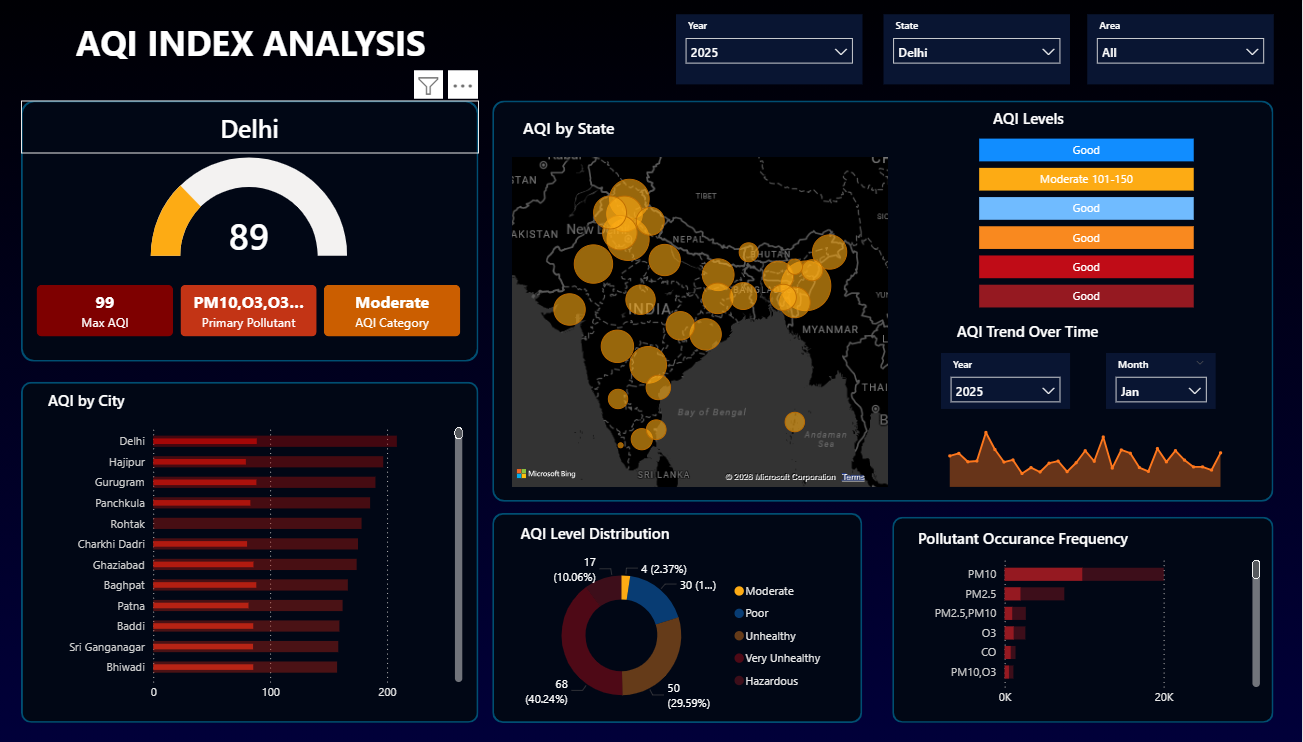

The page's visual inventory and layout, read from the dashboard file:
{"tool":"powerbi","page":{"name":"AQI INDEX ANALYSIS","canvas":[1400,800],"ordinal":0},"visuals":[{"type":"textbox","box":[80.4,17.4,451.7,75.1],"z":0},{"type":"shape","box":[26.8,109.9,490.6,280.2],"z":1000},{"type":"slicer","fields":{"Values":["Calendar Table.Year"]},"box":[729.2,17.4,199.7,75.1],"z":2000},{"type":"slicer","fields":{"Values":["day_wise_aqi_data.state"]},"box":[951.7,17.4,199.7,75.1],"z":3000},{"type":"slicer","fields":{"Values":["day_wise_aqi_data.area"]},"box":[1170.2,17.4,199.7,75.1],"z":4000},{"type":"gauge","fields":{"Y":["day_wise_aqi_data.Average AQI"]},"box":[122,166.2,298.9,115.3],"z":5000},{"type":"cardVisual","fields":{"Data":["Max(day_wise_aqi_data.aqi_value)","day_wise_aqi_data.Primary Pollutant","day_wise_aqi_data.AQI Category KPI"]},"box":[26.8,290.9,490.6,89.8],"z":6000},{"type":"cardVisual","fields":{"Data":["day_wise_aqi_data.KPI Title"]},"box":[26.8,109.9,490.6,56.3],"z":7000},{"type":"shape","box":[532.2,109.9,837.8,430.3],"z":8000},{"type":"map","fields":{"Category":["day_wise_aqi_data.state"],"Size":["day_wise_aqi_data.Average AQI"]},"box":[548.3,166.2,412.9,363.3],"z":9000},{"type":"cardVisual","fields":{"Data":["day_wise_aqi_data.State Map Title"]},"box":[548.3,119.3,163.5,36.2],"z":10000},{"type":"barChart","fields":{"Category":["day_wise_aqi_data.AQI Category"],"Y":["day_wise_aqi_data.Label"]},"box":[1049.6,138.1,239.9,199.7],"z":11000},{"type":"cardVisual","fields":{"Data":["day_wise_aqi_data.AQI Level Title"]},"box":[1052.3,109.9,163.5,36.2],"z":12000},{"type":"areaChart","fields":{"Category":["Calendar Table.Date.Variation.Date Hierarchy.Day"],"Y":["day_wise_aqi_data.Average AQI"]},"box":[1008,439.7,320.4,89.8],"z":13000},{"type":"slicer","fields":{"Values":["Calendar Table.Date.Variation.Date Hierarchy.Year"]},"box":[1013.4,380.7,138.1,60.3],"z":14000},{"type":"slicer","fields":{"Values":["Calendar Table.Month"]},"box":[1190.4,380.7,118,60.3],"z":15000},{"type":"cardVisual","fields":{"Data":["day_wise_aqi_data.Title for Monthly Chart"]},"box":[1013.4,337.8,294.9,36.2],"z":16000},{"type":"shape","box":[26.8,411.5,490.6,366],"z":17000},{"type":"barChart","fields":{"Category":["day_wise_aqi_data.area"],"Y":["day_wise_aqi_data.Average AQI"]},"box":[38.9,447.7,466.5,315],"z":18000},{"type":"cardVisual","fields":{"Data":["day_wise_aqi_data.Title for City"]},"box":[38.9,411.5,294.9,36.2],"z":19000},{"type":"shape","box":[532.2,552.3,396.8,225.2],"z":20000},{"type":"donutChart","fields":{"Category":["day_wise_aqi_data.AQI Category"],"Y":["day_wise_aqi_data.Count of Rows"]},"box":[545.6,589.8,352.5,187.7],"z":20001},{"type":"cardVisual","fields":{"Data":["day_wise_aqi_data.Donut Title"]},"box":[545.6,556.3,294.9,33.5],"z":20002},{"type":"shape","box":[961.1,556.3,408.8,221.2],"z":20003},{"type":"clusteredBarChart","fields":{"Category":["day_wise_aqi_data.prominent_pollutants"],"Y":["day_wise_aqi_data.Count of Rows"]},"box":[971.9,589.8,388.7,178.3],"z":20004},{"type":"cardVisual","fields":{"Data":["day_wise_aqi_data.Pollutant Title"]},"box":[971.9,561.7,294.9,33.5],"z":20005}]}

Visuals, with their boxes in screenshot pixels (x1, y1, x2, y2), scaled from the page's 1400x800 canvas onto the 1303x742 screenshot:
textbox: 75, 16, 495, 86
shape: 25, 102, 482, 362
slicer - Calendar Table.Year: 679, 16, 865, 86
slicer - day_wise_aqi_data.state: 886, 16, 1072, 86
slicer - day_wise_aqi_data.area: 1089, 16, 1275, 86
gauge - day_wise_aqi_data.Average AQI: 114, 154, 392, 261
cardVisual - Max(day_wise_aqi_data.aqi_value) x day_wise_aqi_data.Primary Pollutant: 25, 270, 482, 353
cardVisual - day_wise_aqi_data.KPI Title: 25, 102, 482, 154
shape: 495, 102, 1275, 501
map - day_wise_aqi_data.state x day_wise_aqi_data.Average AQI: 510, 154, 895, 491
cardVisual - day_wise_aqi_data.State Map Title: 510, 111, 662, 144
barChart - day_wise_aqi_data.AQI Category x day_wise_aqi_data.Label: 977, 128, 1200, 313
cardVisual - day_wise_aqi_data.AQI Level Title: 979, 102, 1132, 136
areaChart - Calendar Table.Date.Variation.Date Hierarchy.Day x day_wise_aqi_data.Average AQI: 938, 408, 1236, 491
slicer - Calendar Table.Date.Variation.Date Hierarchy.Year: 943, 353, 1072, 409
slicer - Calendar Table.Month: 1108, 353, 1218, 409
cardVisual - day_wise_aqi_data.Title for Monthly Chart: 943, 313, 1218, 347
shape: 25, 382, 482, 721
barChart - day_wise_aqi_data.area x day_wise_aqi_data.Average AQI: 36, 415, 470, 707
cardVisual - day_wise_aqi_data.Title for City: 36, 382, 311, 415
shape: 495, 512, 865, 721
donutChart - day_wise_aqi_data.AQI Category x day_wise_aqi_data.Count of Rows: 508, 547, 836, 721
cardVisual - day_wise_aqi_data.Donut Title: 508, 516, 782, 547
shape: 895, 516, 1275, 721
clusteredBarChart - day_wise_aqi_data.prominent_pollutants x day_wise_aqi_data.Count of Rows: 905, 547, 1266, 712
cardVisual - day_wise_aqi_data.Pollutant Title: 905, 521, 1179, 552
